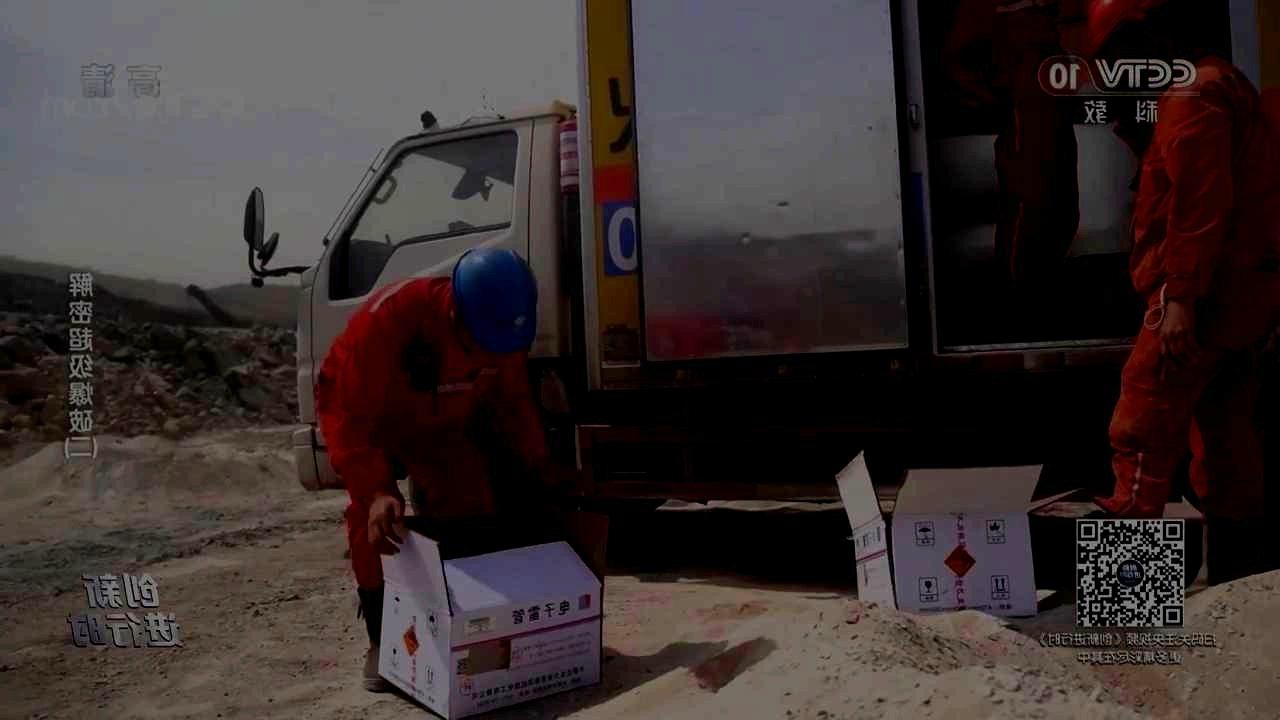helmet: (1074, 1, 1186, 93), (451, 247, 538, 356)
